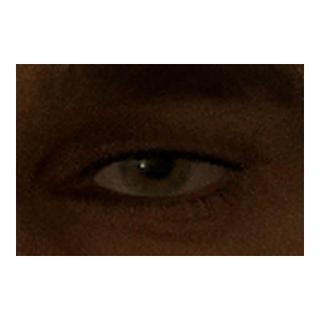pupil: (137, 143, 173, 179)
